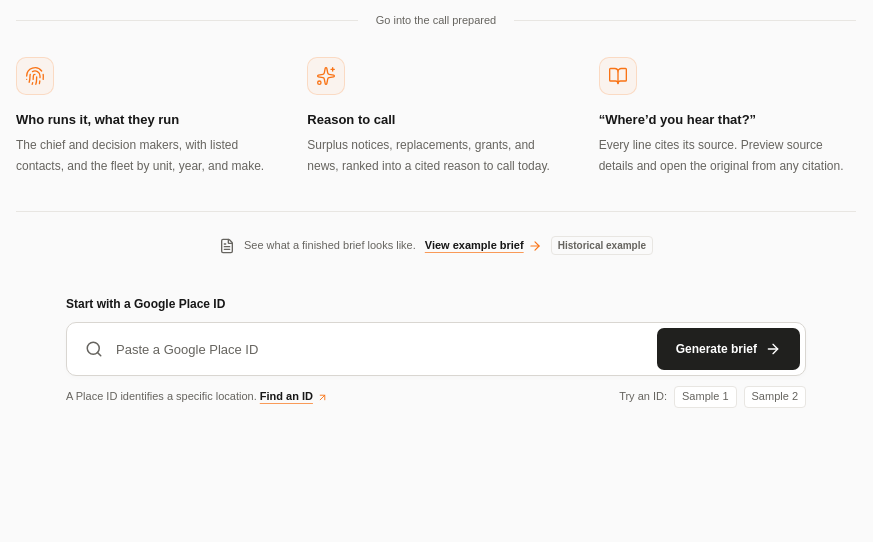
Scenario: ResearchWorkspace › displays a non-retryable configuration error without an endless retry action
The image size is (873, 542).
Type "department-id" into the field at (380, 349), box [106,328,654,370]
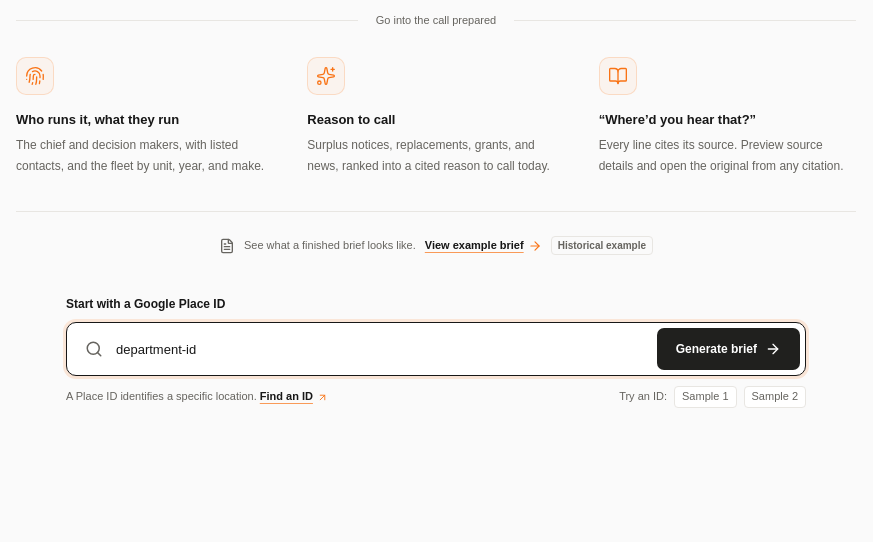
Click the button "Generate brief" at (728, 349), box [657,328,800,370]
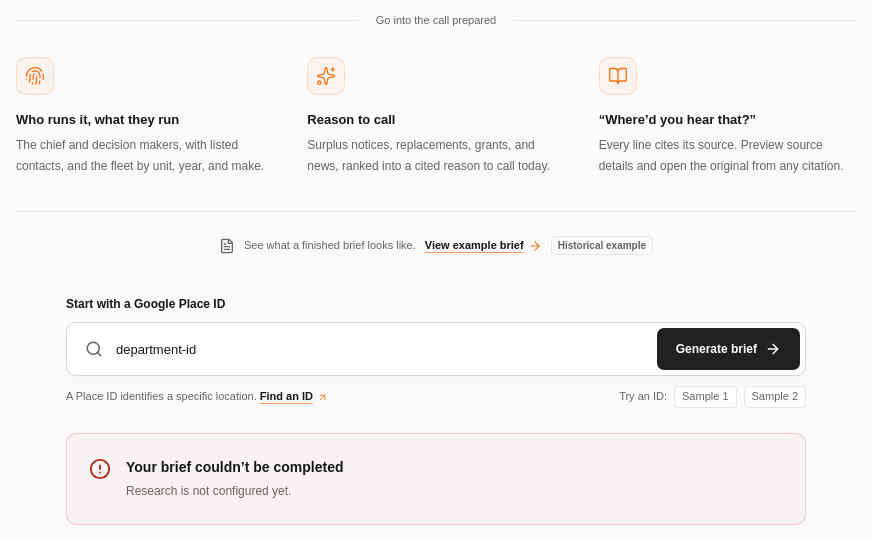
Result: the message shows "Research is not configured yet." at [126,484,291,498]
